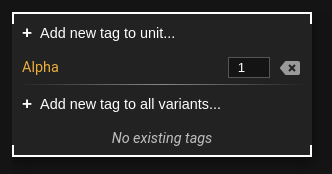
Test: TagSelectorComponent › commits an empty name tag quantity as 1 on blur
The width and height of the screenshot is (332, 174).
Clear the number field with class "tag-quantity-input" at x=249, y=68, box [228,57,270,78]
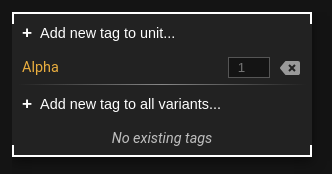
Leave the number field with class "tag-quantity-input", box [228,57,270,78]
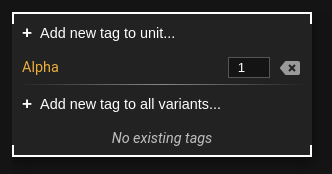
Check: the number field with class "tag-quantity-input" holds "1", box [228,57,270,78]
